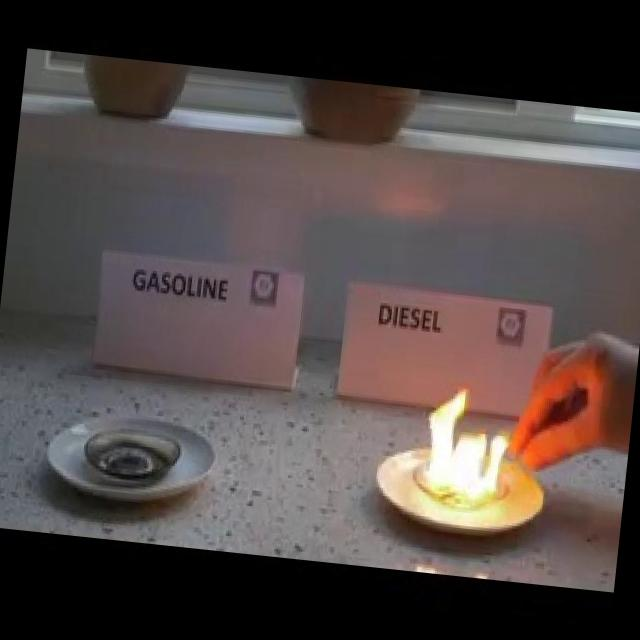Fire: (415, 379, 521, 508)
